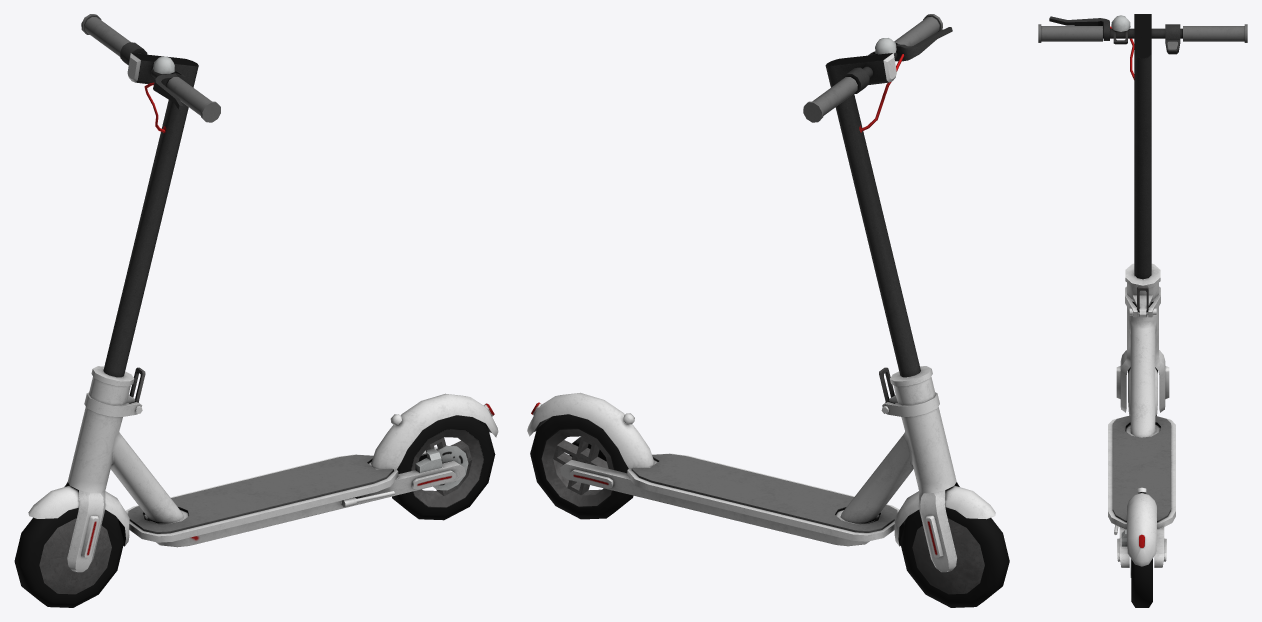
The model's file is electric_scooter-ORXOw53-.glb.
3 views of the same model, side by side, from view 1: azimuth 30°, elevation 25°; view 2: azimuth 150°, elevation 25°; view 3: azimuth 270°, elevation 25° (orthographic). The views are drawn at different scales.
Visible parts, largest first — view 1: ElectricScooter; view 2: ElectricScooter; view 3: ElectricScooter.
Boxes of the visible parts, x1,y1,x2,y2 form: ElectricScooter: [14, 14, 498, 607]; ElectricScooter: [527, 14, 1009, 607]; ElectricScooter: [1038, 14, 1247, 607].
Bounding box in the file's own units: 1.49 × 1.6 × 0.6523.
1 material, 1 textured.
